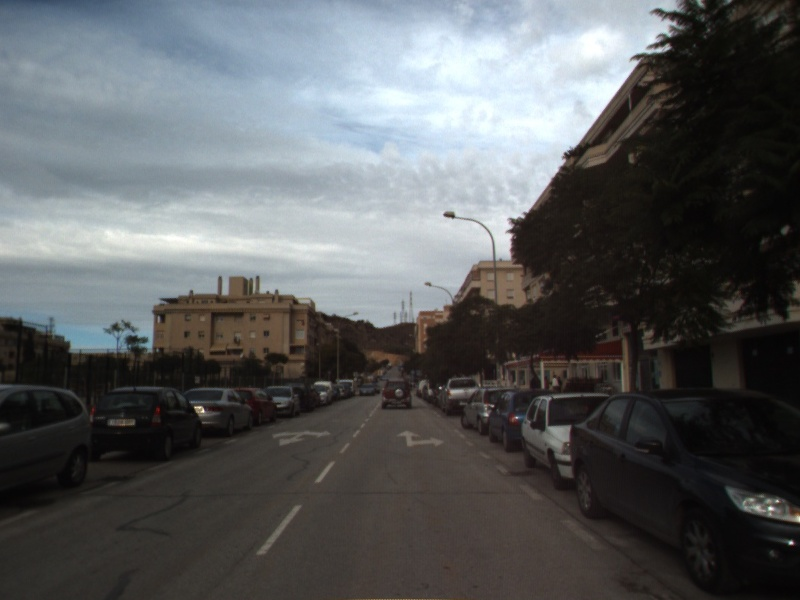STRAIGHT_RIGHT: (394, 428, 446, 449)
